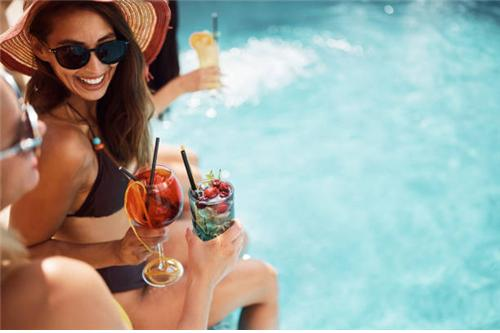alcohol: (121, 167, 188, 286), (189, 179, 240, 247)
